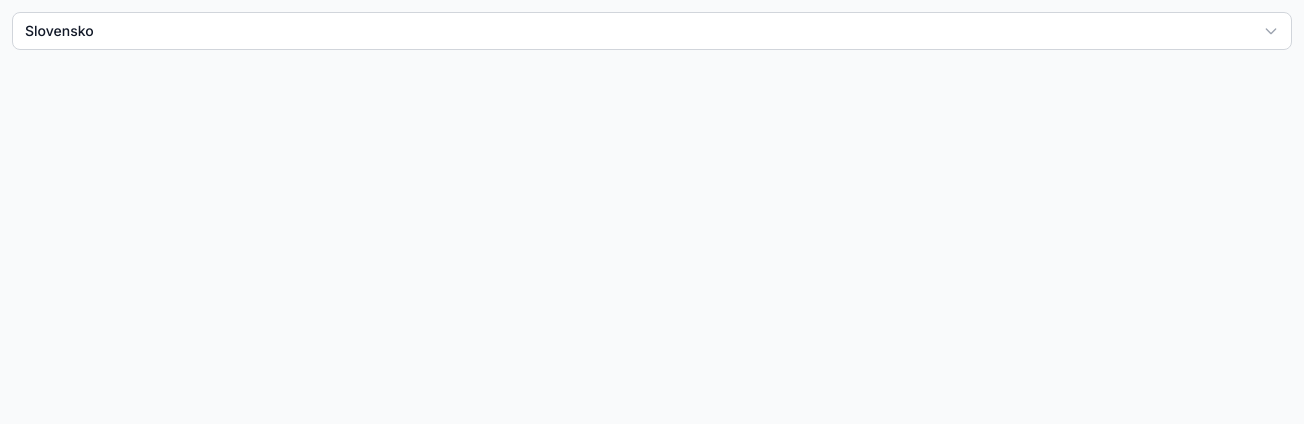
it: CountrySelect › filters and selects any registered country with the keyboard
Press ArrowDown in the button with aria-label "krajina", box top-left (12, 12), bottom-right (1292, 50)
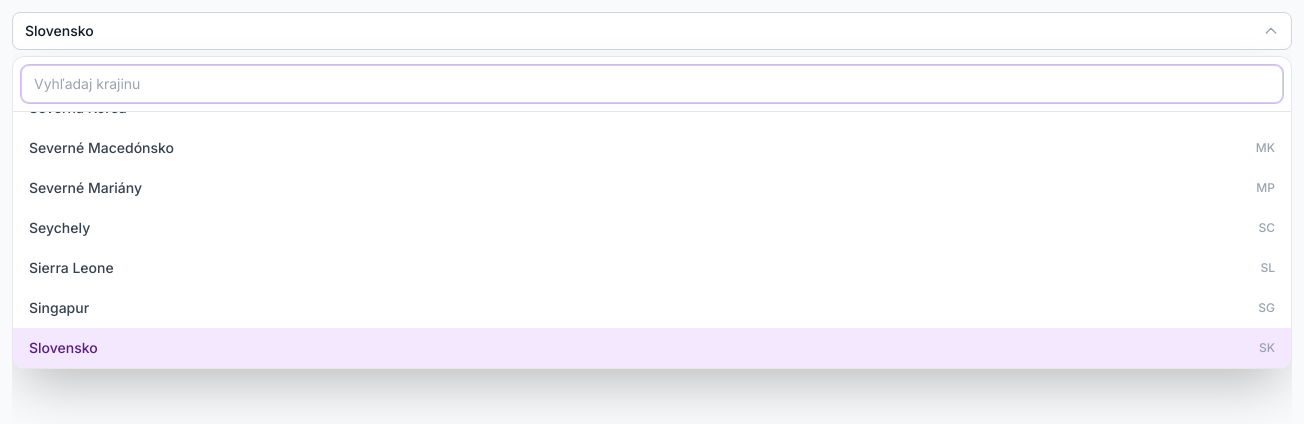
Type "IT" into the dropdown.
click(652, 84); type("IT")  # box top-left (21, 65), bottom-right (1283, 103)
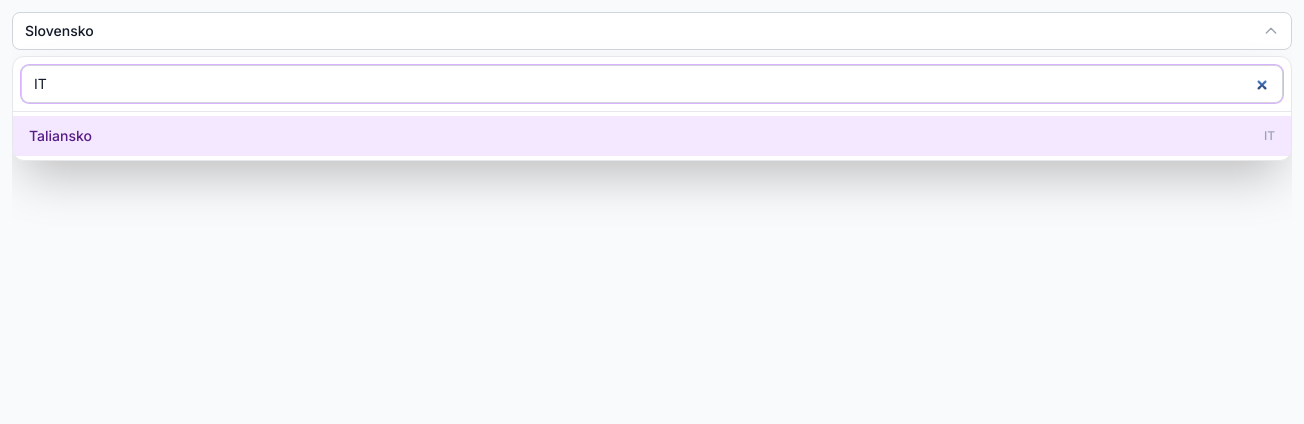
Press Enter in the dropdown, box top-left (21, 65), bottom-right (1283, 103)
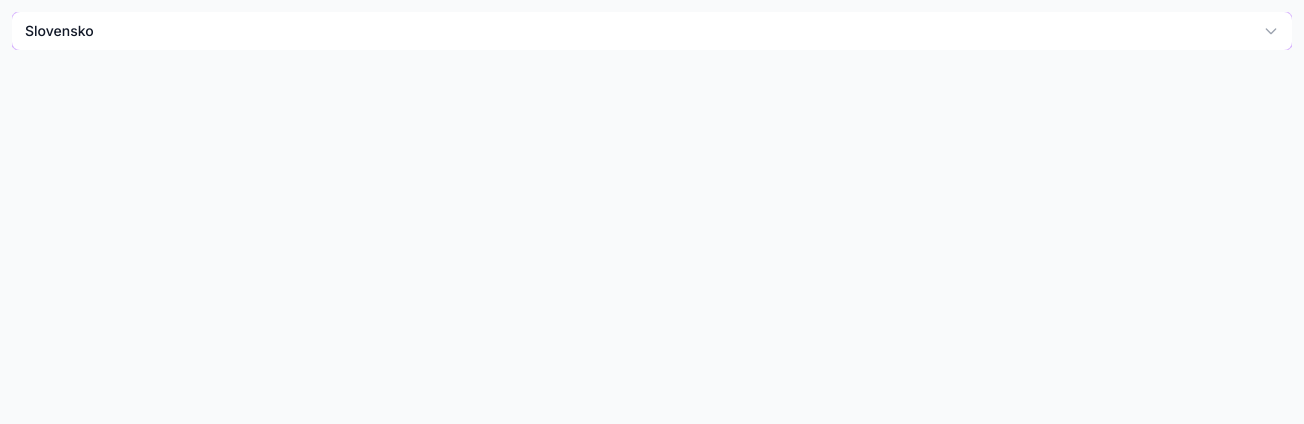
Check: the list is gone
